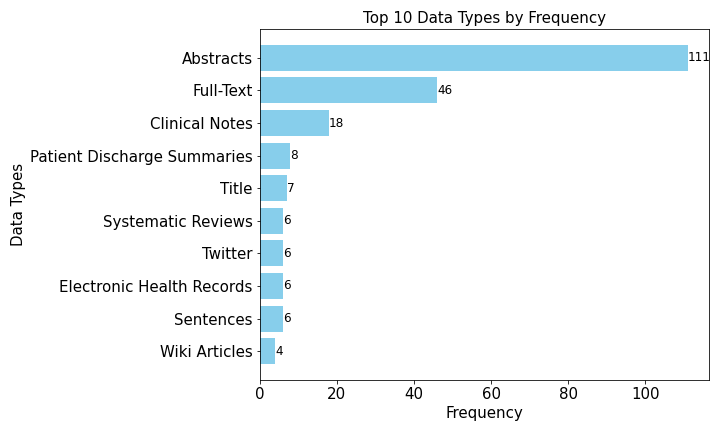

The page's visual inventory and layout, read from the dashboard file:
{"tool":"powerbi","page":{"name":"Reasons for Exclusion","canvas":[1280,720],"ordinal":2},"visuals":[{"type":"clusteredBarChart","fields":{"Category":["Excluded.Reason for exclusion"],"Y":["CountNonNull(Excluded.Reason for exclusion)"]},"box":[0,0,1279.7,720],"z":0}]}

Visuals, with their boxes on the page's 1280x720 design canvas (x1, y1, x2, y2). These are canvas units, not pixel positions in the 720x432 screenshot, which may show the page scaled, cropped or inside an application window:
clusteredBarChart - Excluded.Reason for exclusion x CountNonNull(Excluded.Reason for exclusion): locate(0, 0, 1280, 720)
